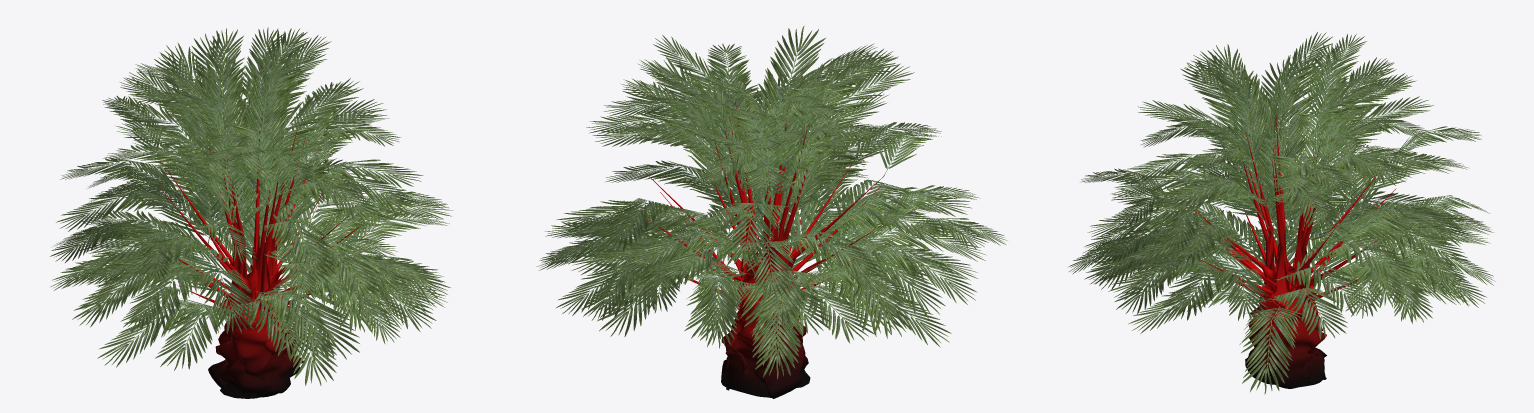
Rendered from Palm_3_3.fbx.
The picture shows the model from 3 angles, left to right: view 1: azimuth 30°, elevation 25°; view 2: azimuth 150°, elevation 25°; view 3: azimuth 270°, elevation 25°; orthographic projection. The views are drawn at different scales.
Parts seen in each view (by area): view 1: Palm_3_3; view 2: Palm_3_3; view 3: Palm_3_3.
Part boxes in pixels (<box>): Palm_3_3: <box>50,27,453,398</box>; Palm_3_3: <box>536,26,1007,398</box>; Palm_3_3: <box>1068,32,1495,394</box>.
Bounding box in the file's own units: 4339 × 3287 × 4560.
